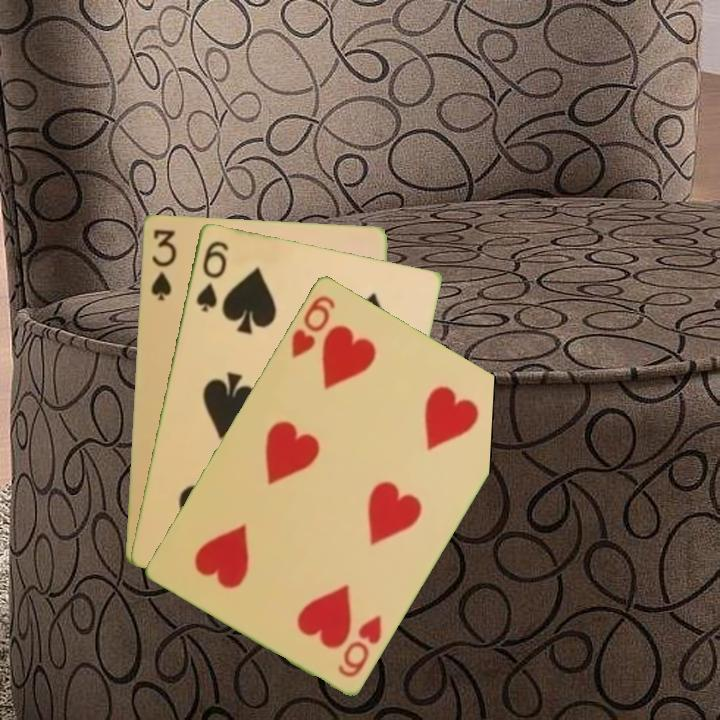3s: (147, 225, 178, 304)
6h: (287, 291, 339, 361), (334, 610, 385, 680)
6s: (192, 237, 231, 315)
